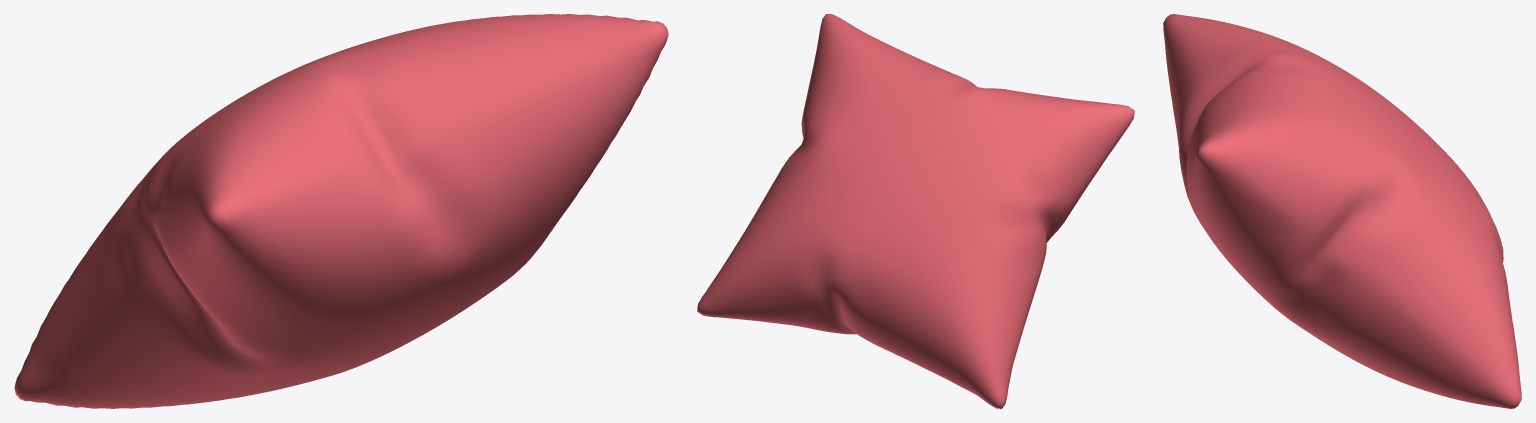
File: Cojin Cap.glb
3 renders of one model, left to right at view 1: azimuth 30°, elevation 25°; view 2: azimuth 150°, elevation 25°; view 3: azimuth 270°, elevation 25°, orthographic. The views are drawn at different scales.
Parts seen in each view (by area): view 1: Cama_Cojin Cap; view 2: Cama_Cojin Cap; view 3: Cama_Cojin Cap.
Boxes of the visible parts, x1,y1,x2,y2 form: Cama_Cojin Cap: [14, 14, 668, 408]; Cama_Cojin Cap: [697, 14, 1134, 408]; Cama_Cojin Cap: [1163, 14, 1521, 408].
Size of the model in its own units: 0.4357 by 0.3431 by 0.3656.
